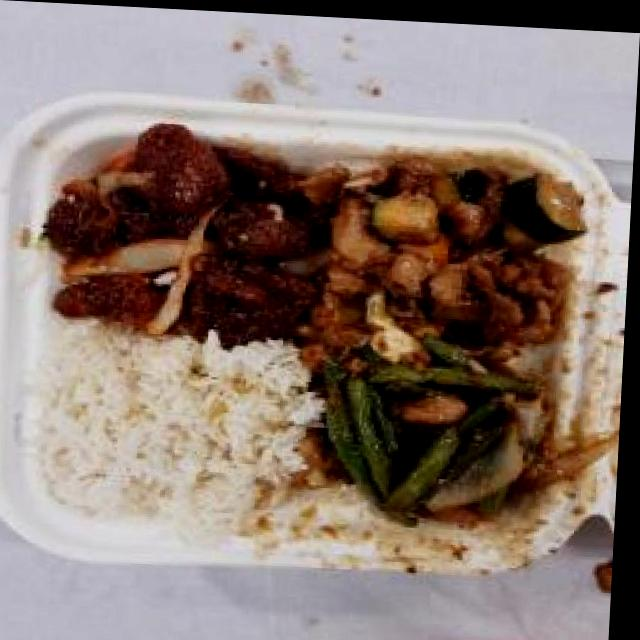Beijing Beef: (41, 117, 335, 347)
Kung Pao Chicken: (310, 136, 591, 352)
String Bean Chicken Breast: (320, 334, 582, 524)
White Steamed Rice: (39, 332, 307, 533)
